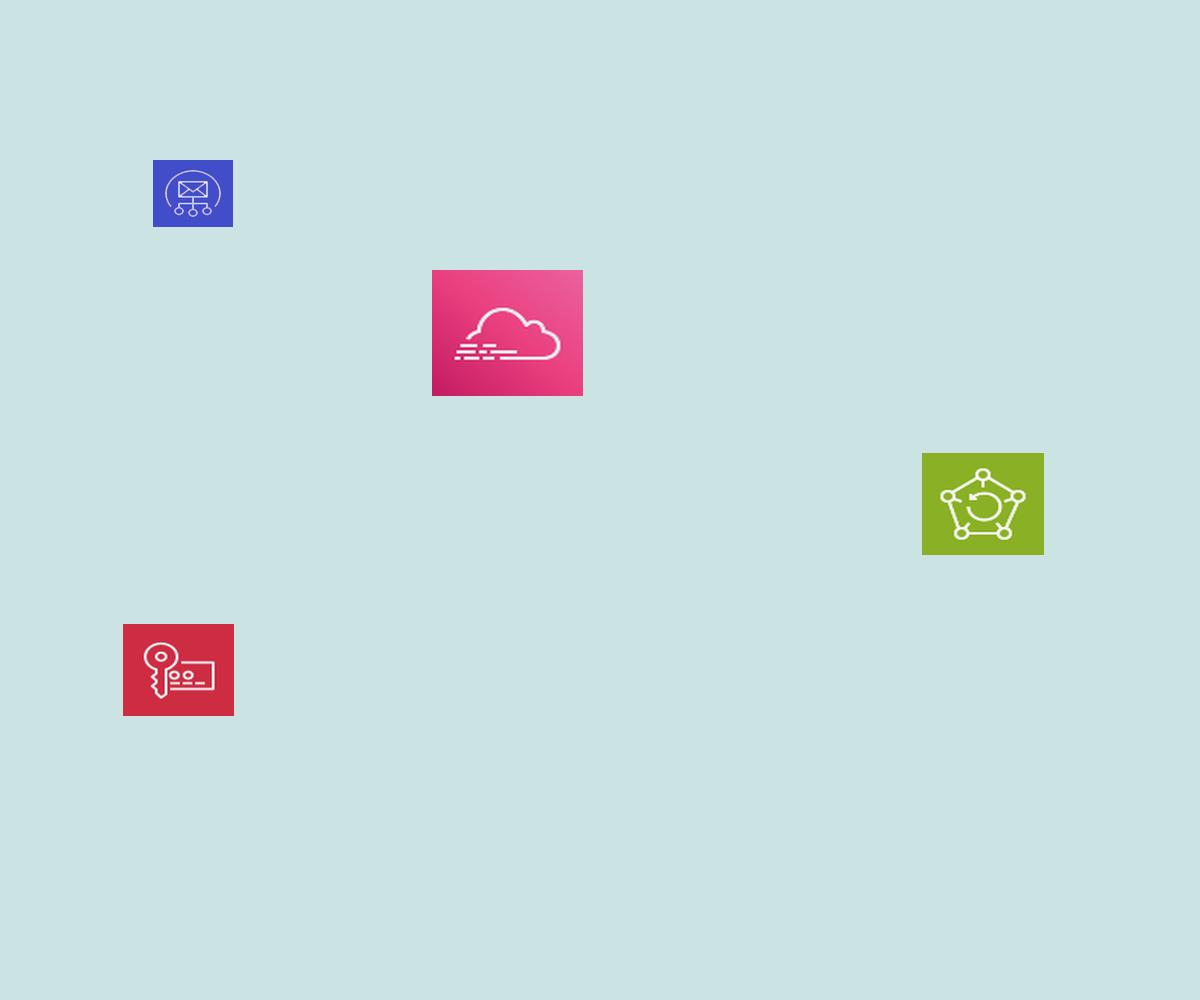AWS-Backup: (922, 453, 1044, 555)
AWS-CloudTrail: (432, 270, 583, 396)
AWS-Key-Management-Service: (123, 624, 234, 716)
AWS-Simple-Email-Service: (153, 160, 233, 227)
